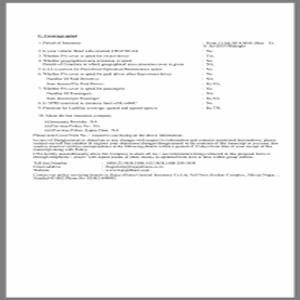text: (34, 30, 282, 179)
